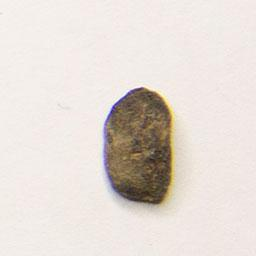defect: (93, 80, 181, 211)
